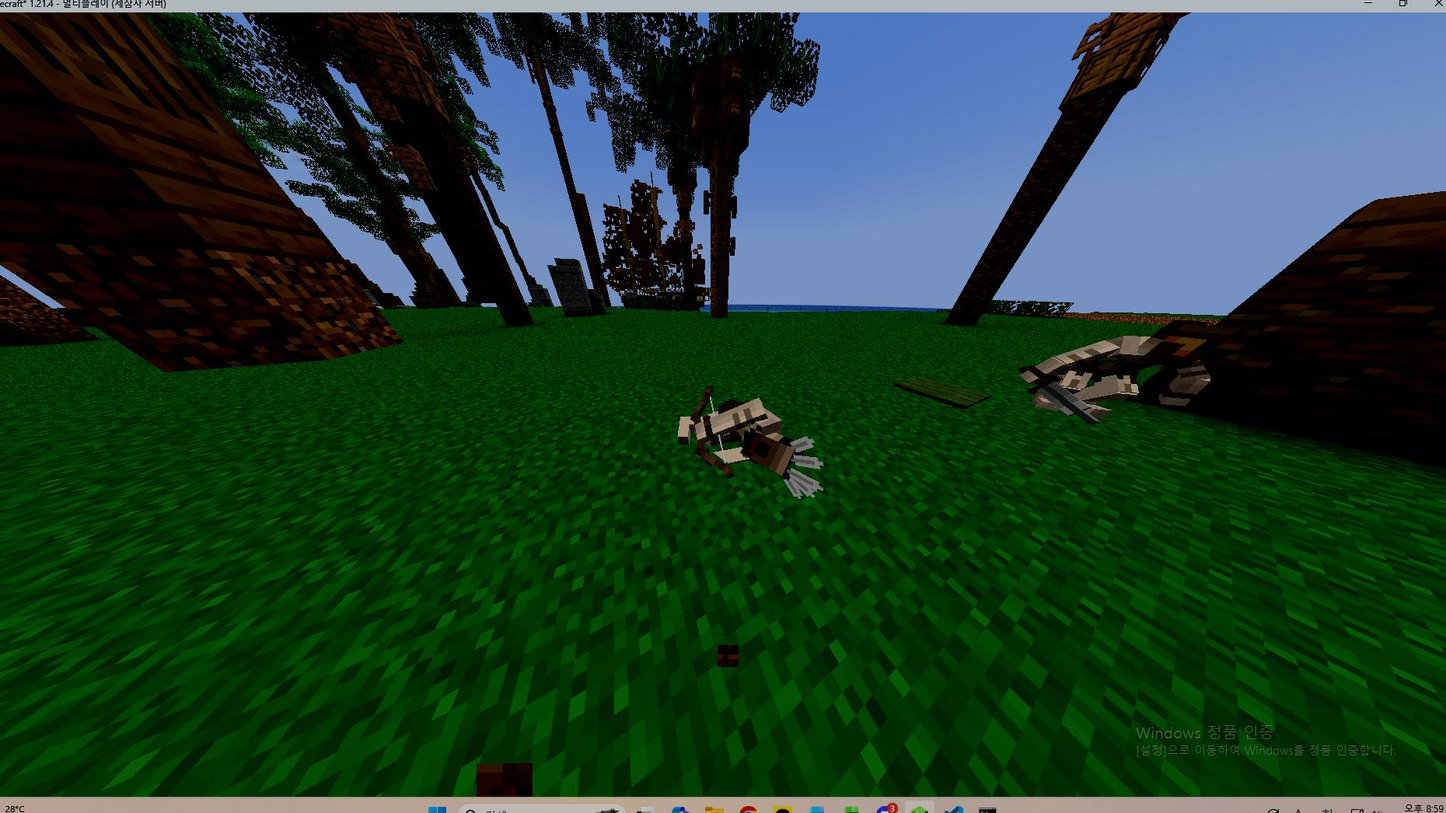bow_indian: (663, 378, 845, 499)
